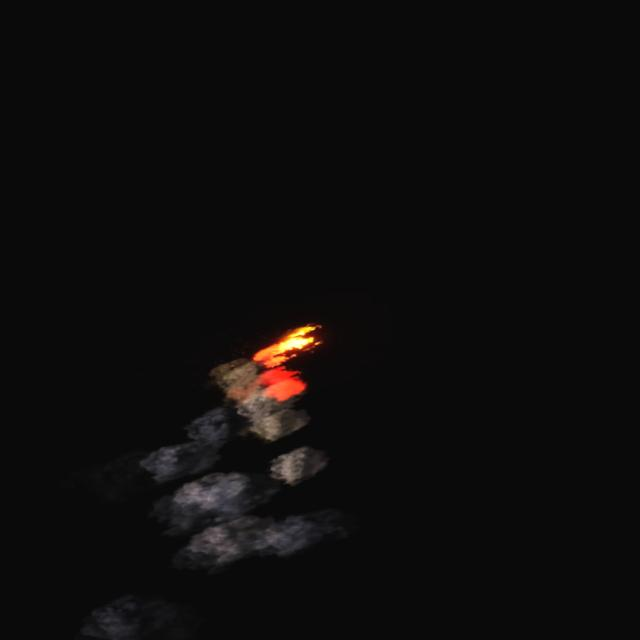fire: (249, 317, 333, 404)
smoke: (118, 345, 338, 578)
